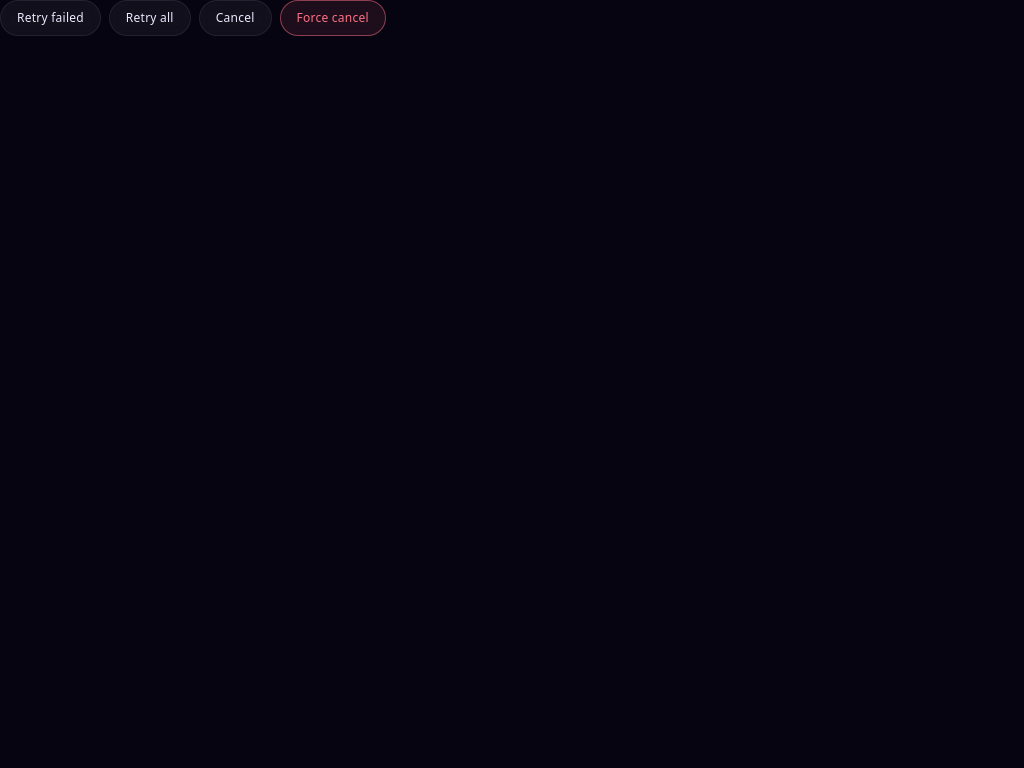
a blocked-by-dependents 409 points the operator at Retry all
Click the button "Retry failed": coordinates (50, 18) [0,0,101,36]
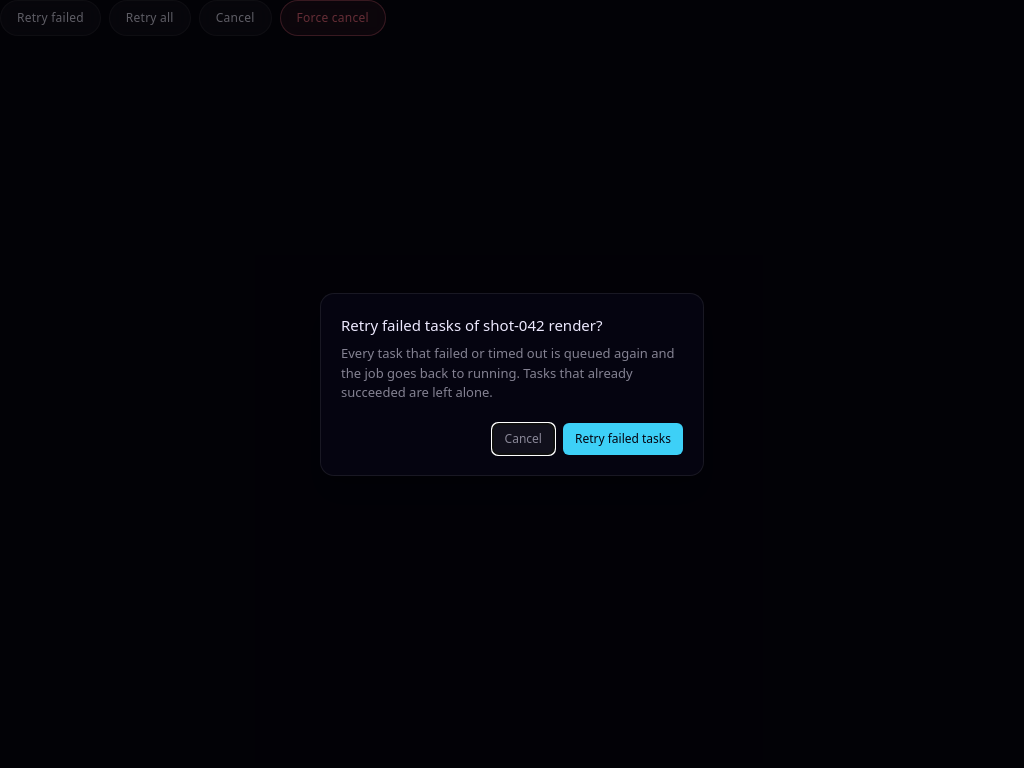
Click the button "Retry failed tasks": coordinates (623, 438) [563,422,683,454]
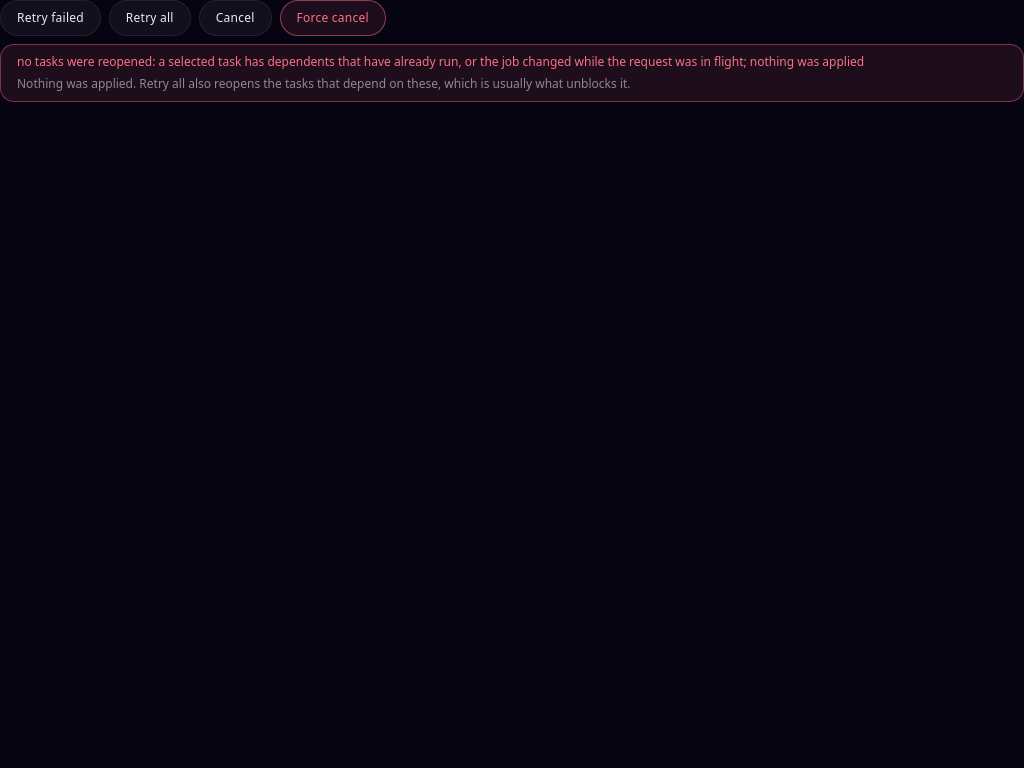
Check: the text "dependents that have already run" is shown, box [17,53,864,70]
Check: the text "Retry all also reopens" is shown, box [17,75,630,92]
